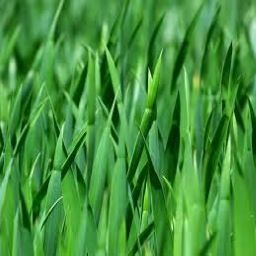grass: (3, 5, 249, 249)
